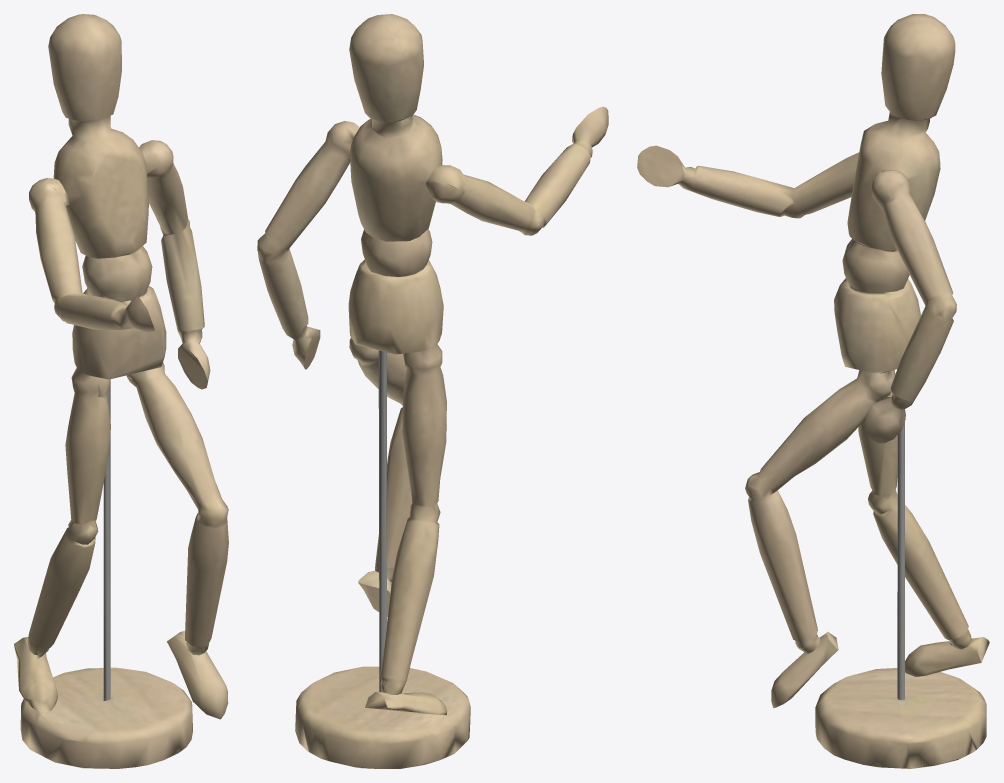
Rendered from c20pzu37els9.glb.
The picture shows the model from 3 angles, left to right: view 1: azimuth 30°, elevation 25°; view 2: azimuth 150°, elevation 25°; view 3: azimuth 270°, elevation 25°; orthographic projection. The views are drawn at different scales.
Visible parts, largest first — view 1: ProcessedMeshNode; view 2: ProcessedMeshNode; view 3: ProcessedMeshNode.
Boxes of the visible parts, x1,y1,x2,y2 form: ProcessedMeshNode: [14, 14, 228, 768]; ProcessedMeshNode: [257, 14, 608, 768]; ProcessedMeshNode: [637, 14, 989, 768].
Bounding box in the file's own units: 0.1006 × 0.333 × 0.1499.
Materials: 1 (1 with a texture image).
